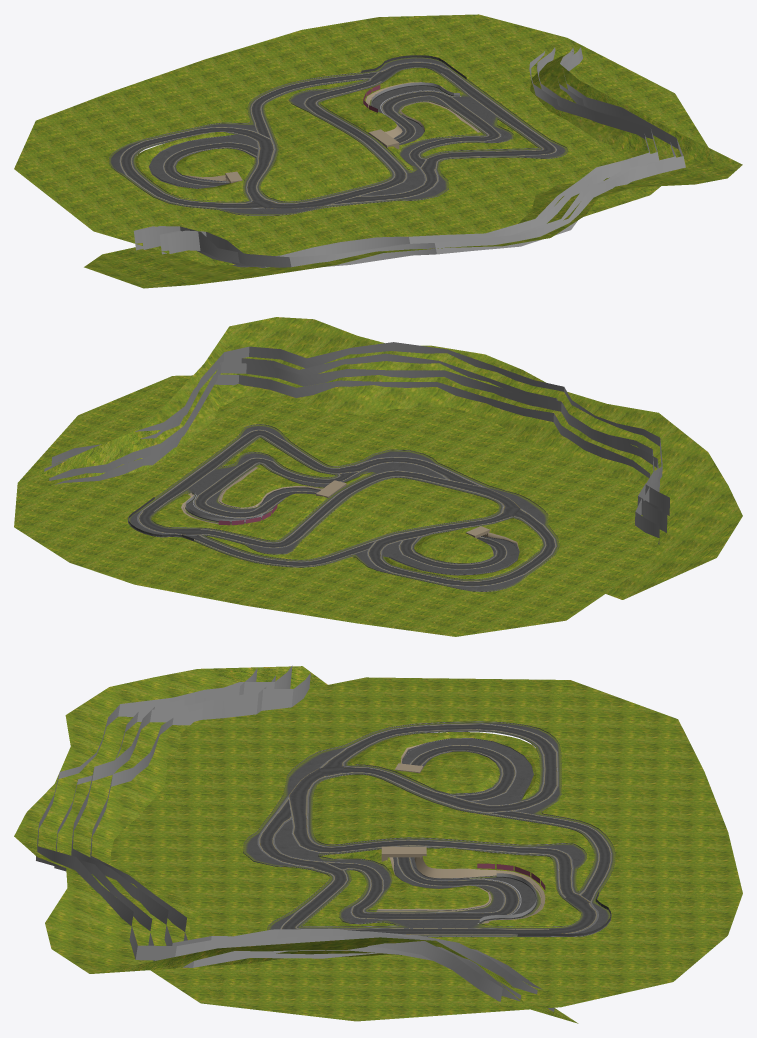
Rendered from Hills_track1.fbx.
3 renders of one model, top to bottom at view 1: azimuth 30°, elevation 25°; view 2: azimuth 150°, elevation 25°; view 3: azimuth 270°, elevation 25°, orthographic. The views are drawn at different scales.
Parts seen in each view (by area): view 1: polySurface70, polySurface98, polySurface122, polySurface126, polySurface119, polySurface125, polySurface120, polySurface117; view 2: polySurface70, polySurface122, polySurface98, polySurface126, polySurface119, polySurface125, polySurface120, polySurface117; view 3: polySurface70, polySurface122, polySurface98, polySurface119, polySurface126, polySurface125, polySurface120, polySurface117.
Part boxes in pixels (box(x1,y1,x2,y2)): polySurface70: box(14, 14, 708, 265); polySurface98: box(119, 61, 556, 208); polySurface122: box(84, 51, 742, 288); polySurface126: box(141, 47, 685, 267); polySurface119: box(109, 57, 567, 215); polySurface125: box(133, 48, 676, 267); polySurface120: box(135, 67, 484, 202); polySurface117: box(109, 72, 567, 215); polySurface70: box(14, 375, 660, 636); polySurface122: box(35, 317, 742, 599); polySurface98: box(137, 429, 556, 586); polySurface126: box(49, 342, 669, 532); polySurface119: box(128, 425, 559, 591); polySurface125: box(44, 353, 662, 544); polySurface120: box(151, 464, 542, 579); polySurface117: box(128, 424, 559, 591); polySurface70: box(110, 677, 742, 1021); polySurface122: box(14, 666, 578, 1023); polySurface98: box(257, 723, 611, 935); polySurface119: box(243, 722, 615, 935); polySurface126: box(36, 665, 537, 1001); polySurface125: box(54, 672, 554, 1011); polySurface120: box(312, 731, 594, 926); polySurface117: box(243, 721, 615, 936).
Size of the model in its own units: 102 by 11.77 by 86.15.
Materials: 11 (5 with a texture image).
